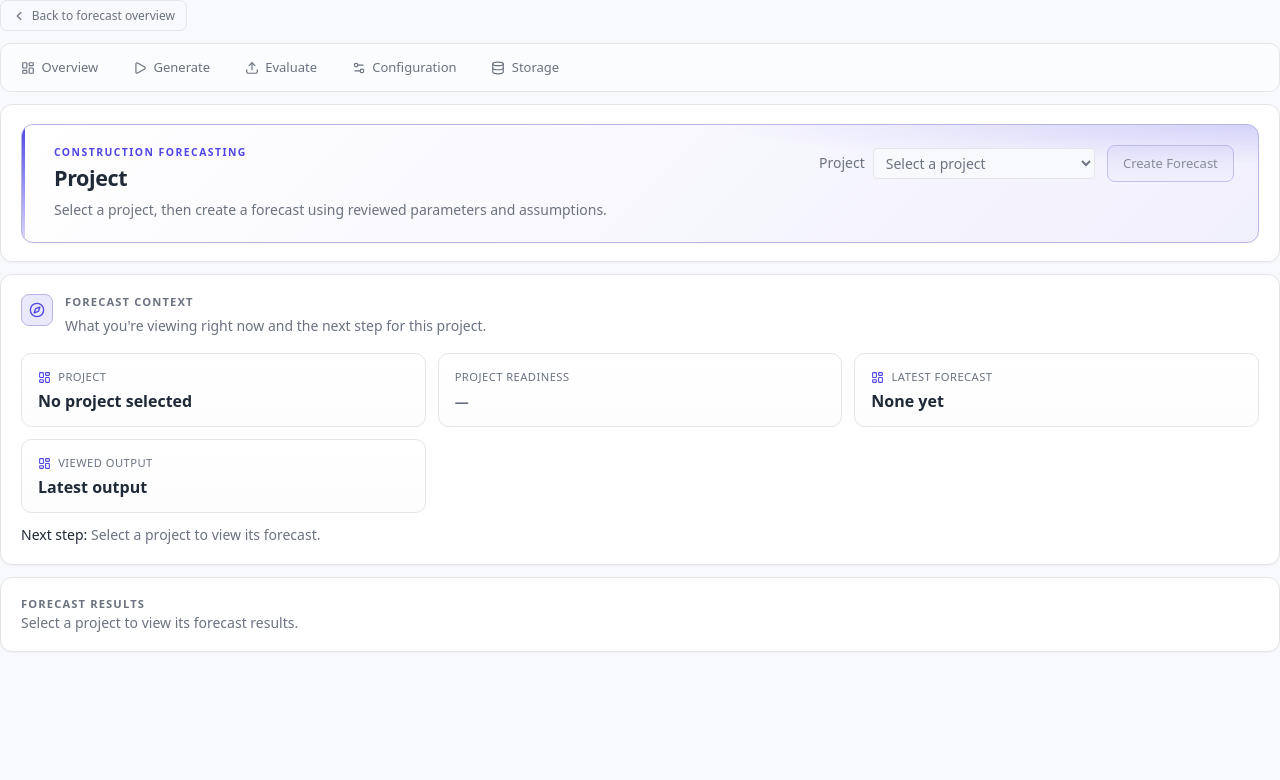
Test: ForecastRunCenterPage history modal › selecting a saved output from history closes the modal
Select "Tropical Resort" in the dropdown named "Forecast project" at x=984, y=163, box [873,148,1095,179]
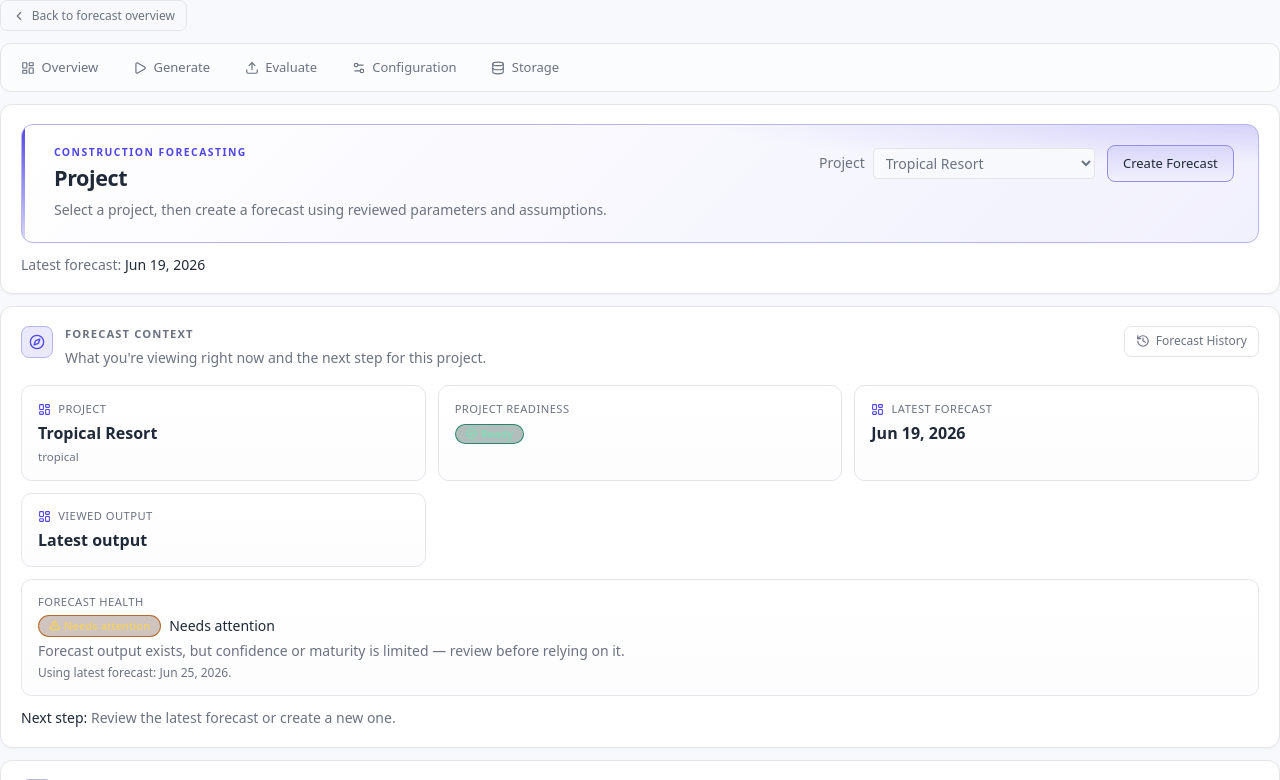
Click the button "Forecast History" at x=1192, y=341, box [1124,326,1259,357]
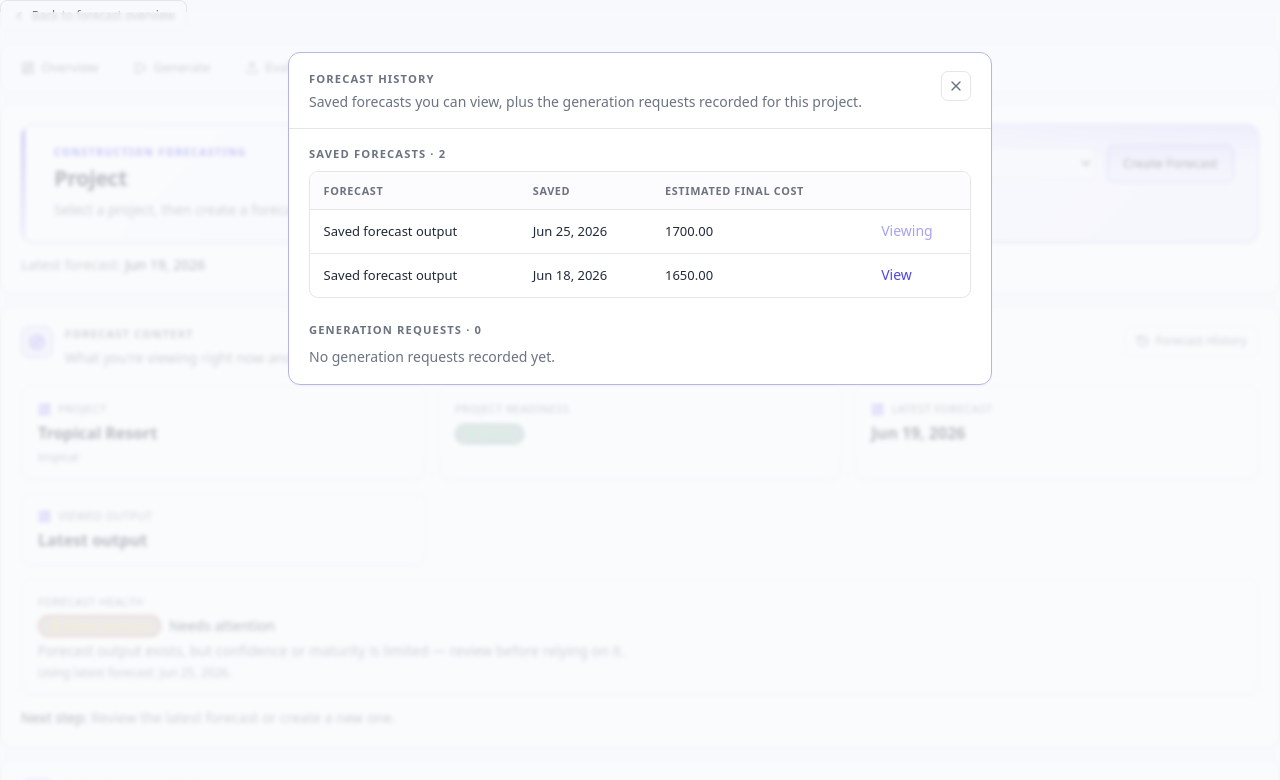
Click the button "View" at x=896, y=275, box [881,265,912,285]
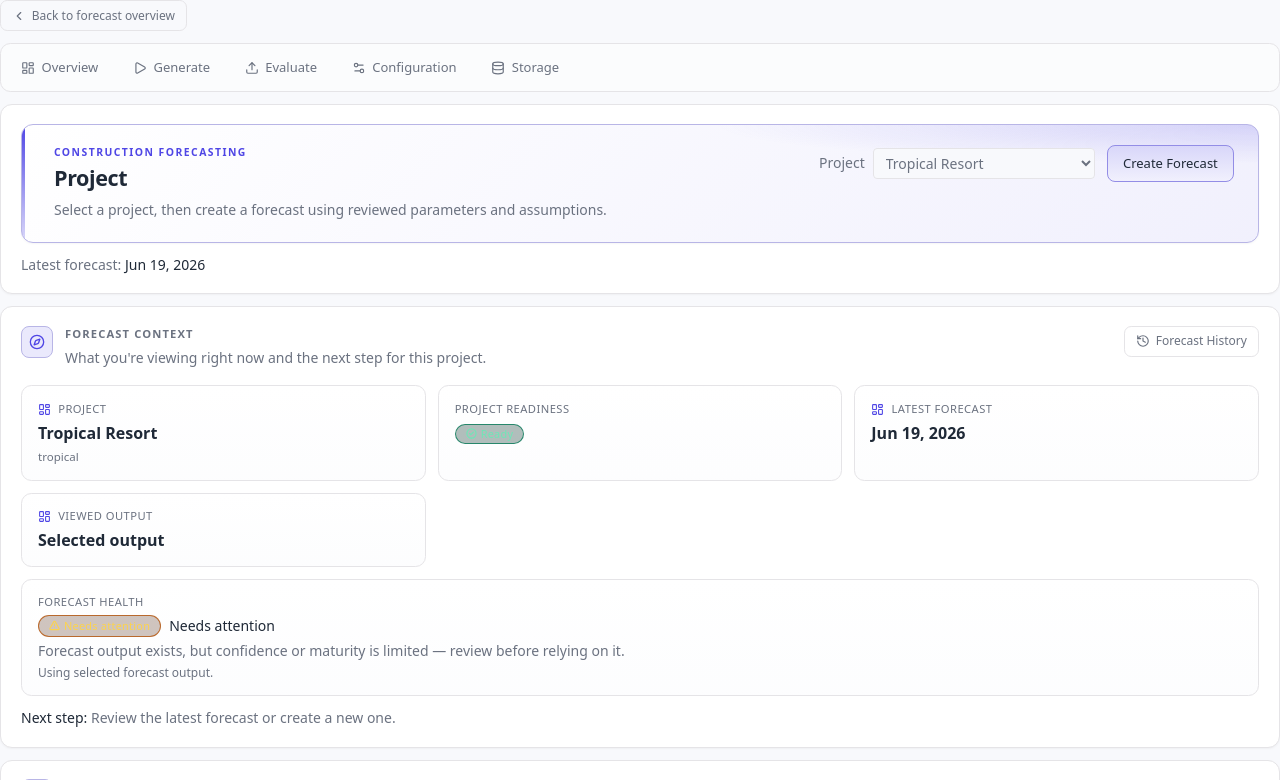
Check: the dialog is gone
